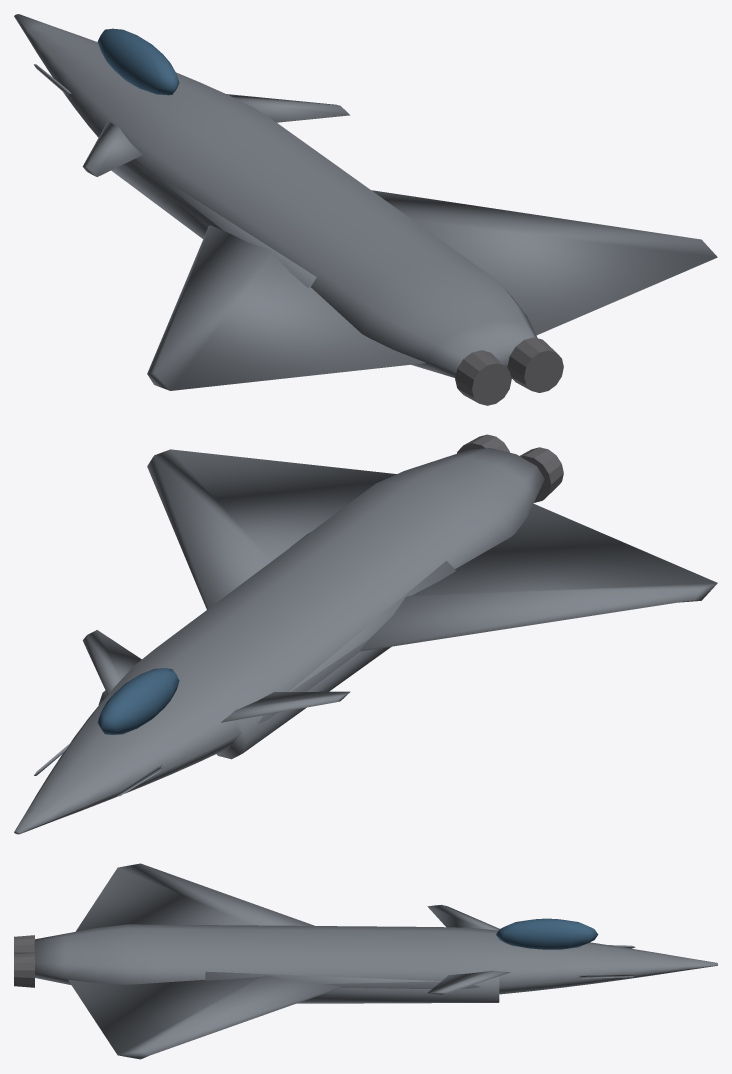
3 views of the same model, one above another, from view 1: azimuth 30°, elevation 25°; view 2: azimuth 150°, elevation 25°; view 3: azimuth 270°, elevation 25° (orthographic). The views are drawn at different scales.
Visible parts, largest first — view 1: Body, Detail, Canopy; view 2: Body, Canopy, Detail; view 3: Body, Canopy, Detail.
Part boxes in pixels (<box>): Body: <box>14,14,717,390</box>; Detail: <box>455,337,563,405</box>; Canopy: <box>97,28,179,95</box>; Body: <box>14,448,717,834</box>; Canopy: <box>97,668,179,734</box>; Detail: <box>457,434,563,502</box>; Body: <box>34,863,717,1059</box>; Canopy: <box>496,918,598,949</box>; Detail: <box>14,935,34,987</box>.
Size of the model in its own units: 1300 by 209 by 2060.
